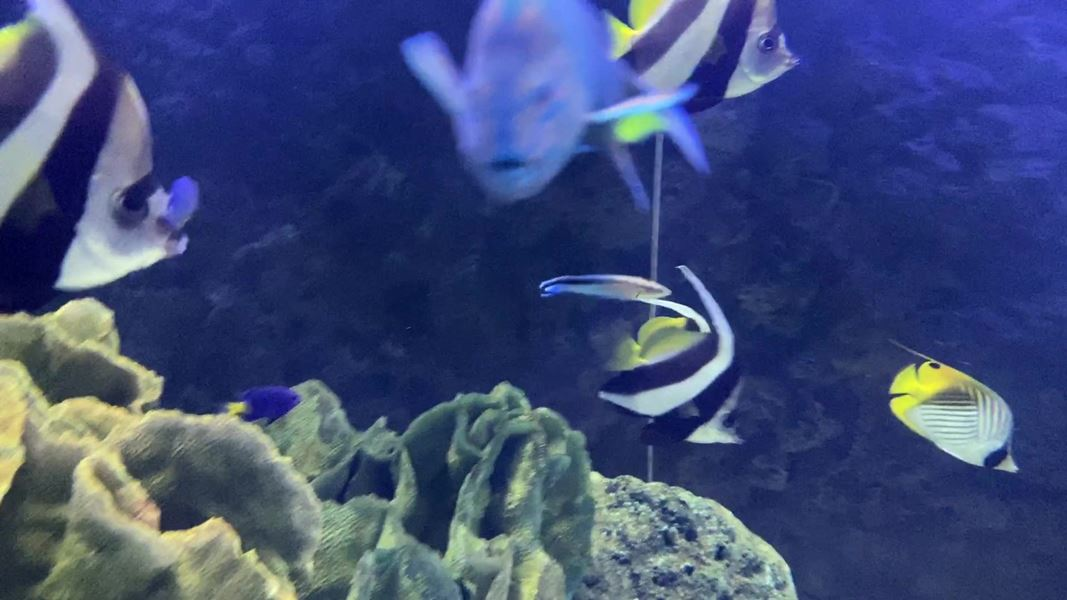Bluesteak cleaner wrasse: (534, 265, 679, 316)
